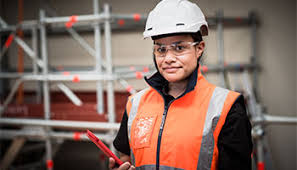hard hat: (142, 1, 209, 38)
high-vis: (126, 77, 241, 170)
